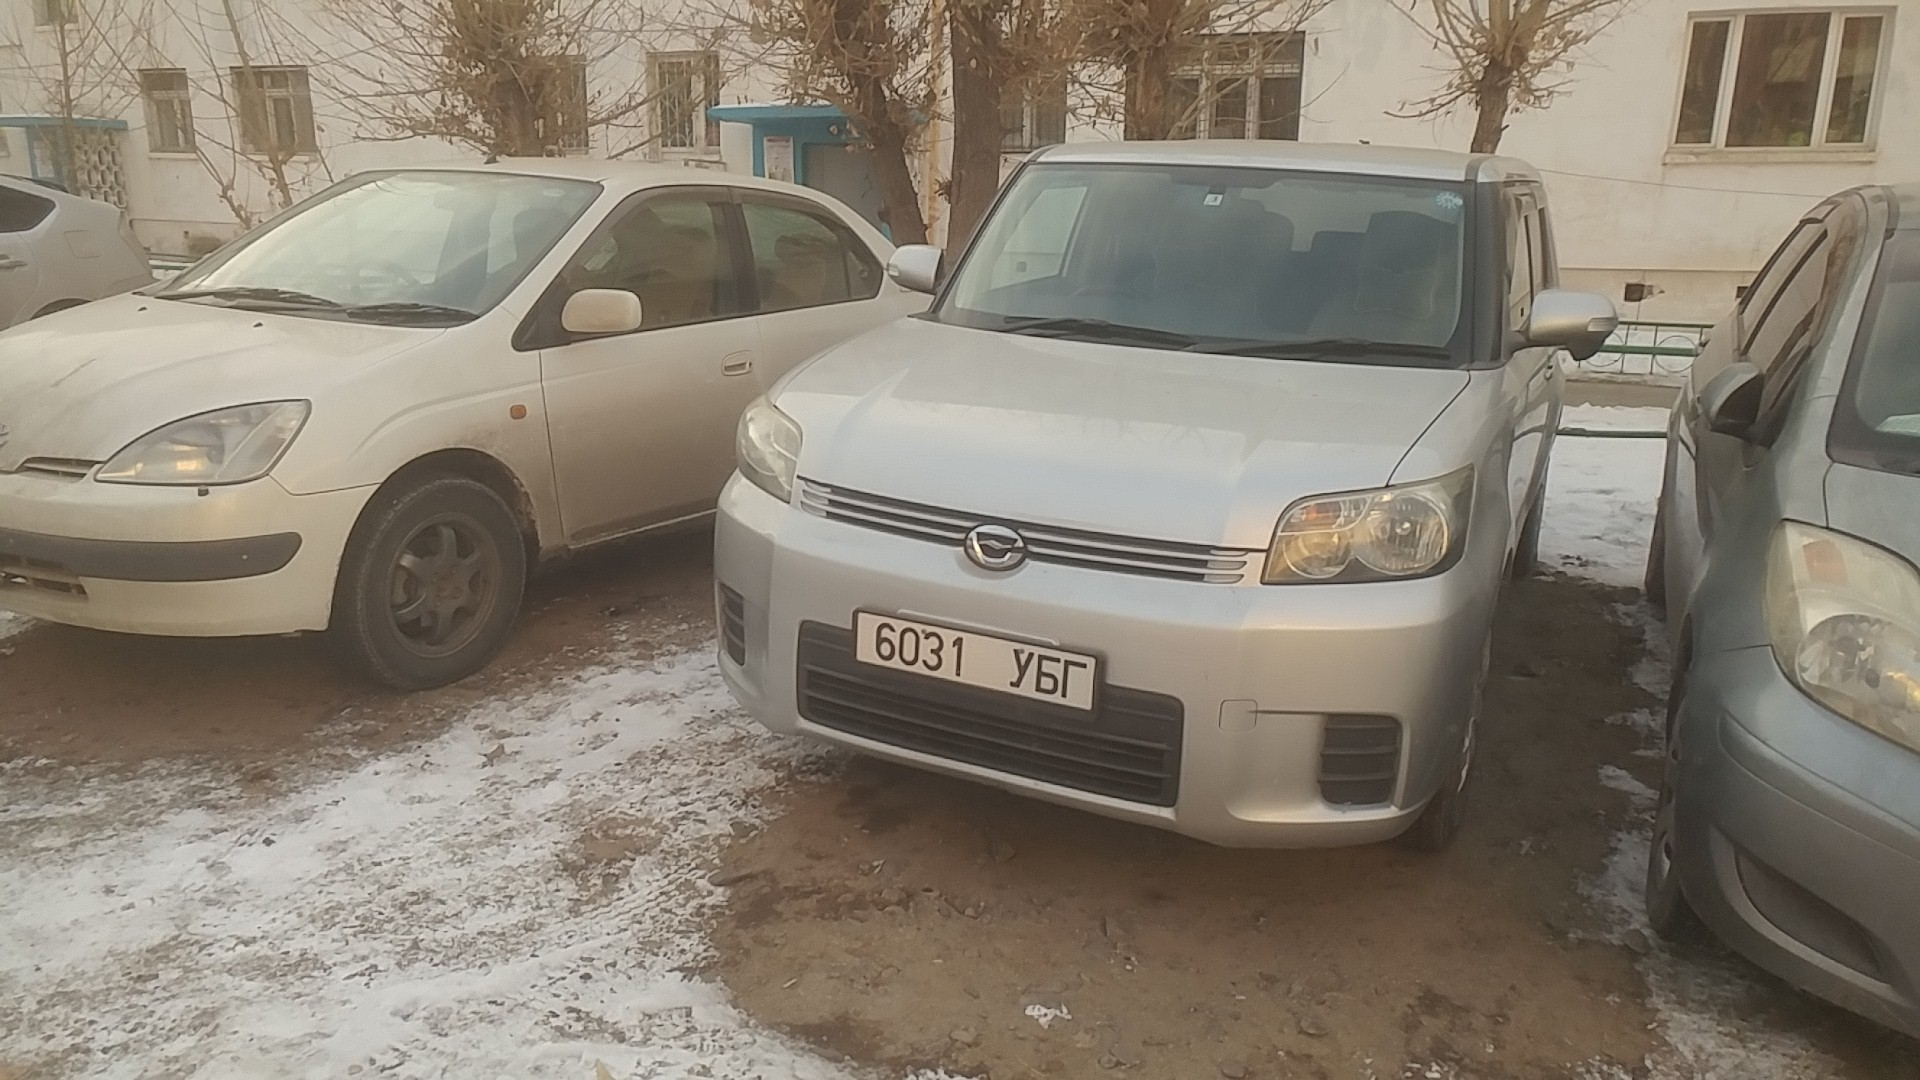0: (898, 625, 920, 666)
1: (948, 633, 968, 680)
3: (922, 629, 945, 673)
6: (874, 621, 897, 661)
b: (1033, 653, 1063, 695)
g: (1059, 657, 1088, 700)
plate: (851, 608, 1105, 720)
u: (1007, 646, 1035, 689)
